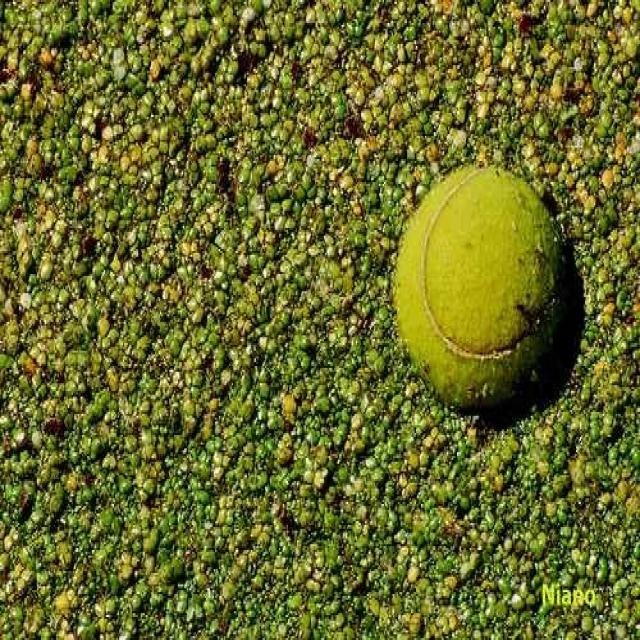Tennis_Ball: (397, 158, 568, 426)
